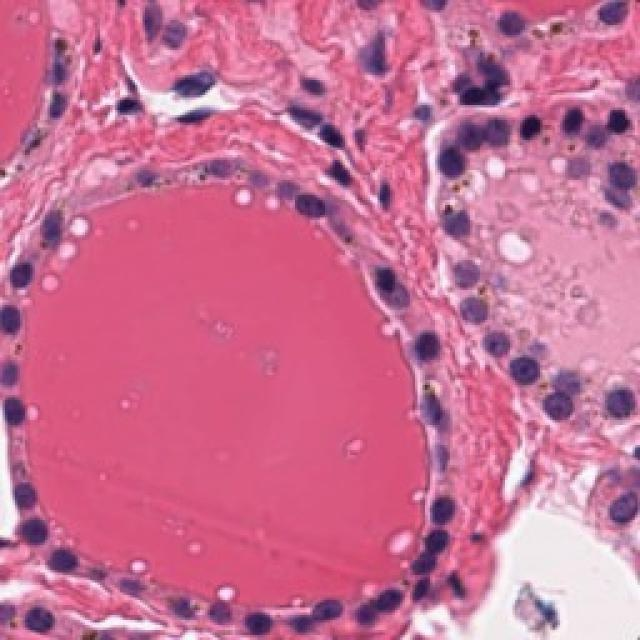normal: (537, 357, 591, 431), (480, 350, 539, 416), (0, 453, 55, 523), (397, 485, 468, 536), (0, 497, 51, 565), (425, 128, 480, 191), (284, 177, 343, 233), (466, 105, 516, 170), (470, 309, 526, 362), (354, 260, 414, 309), (362, 572, 403, 640), (440, 254, 499, 301), (289, 597, 353, 640), (595, 366, 640, 427), (0, 385, 47, 437), (237, 598, 288, 640), (455, 283, 499, 328), (0, 293, 30, 350), (3, 251, 45, 284)
